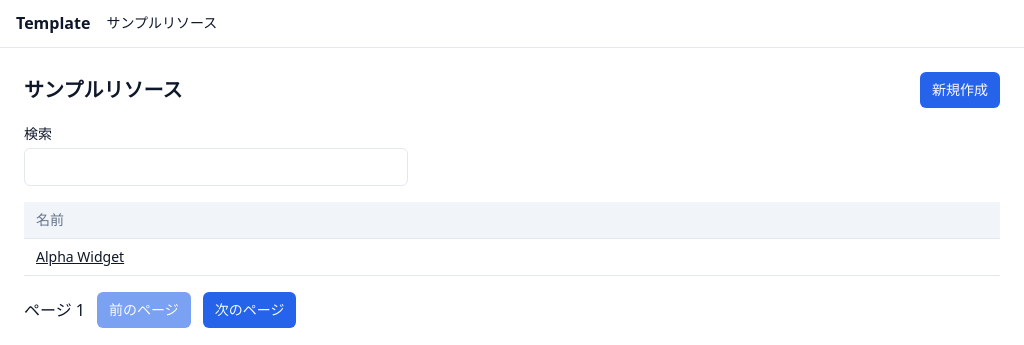
Test: sample resource list › moves to the next page by rewriting the URL and shows that page
The width and height of the screenshot is (1024, 345).
Check: the link "Alpha Widget" is shown, box top-left (36, 247), bottom-right (124, 266)
Click the button "次のページ" at (250, 310), box top-left (203, 292), bottom-right (296, 328)
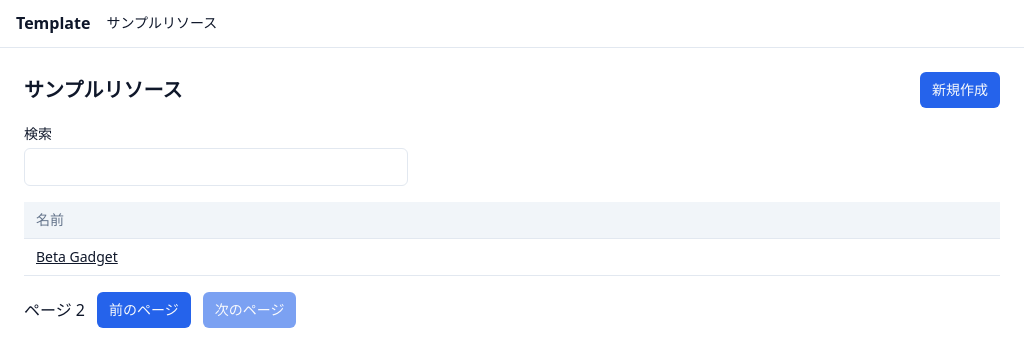
Check: the link "Beta Gadget" is shown, box top-left (36, 247), bottom-right (118, 266)
Check: the link "Alpha Widget" is gone
Check: the text "ページ 2" is shown, box top-left (24, 298), bottom-right (85, 322)
